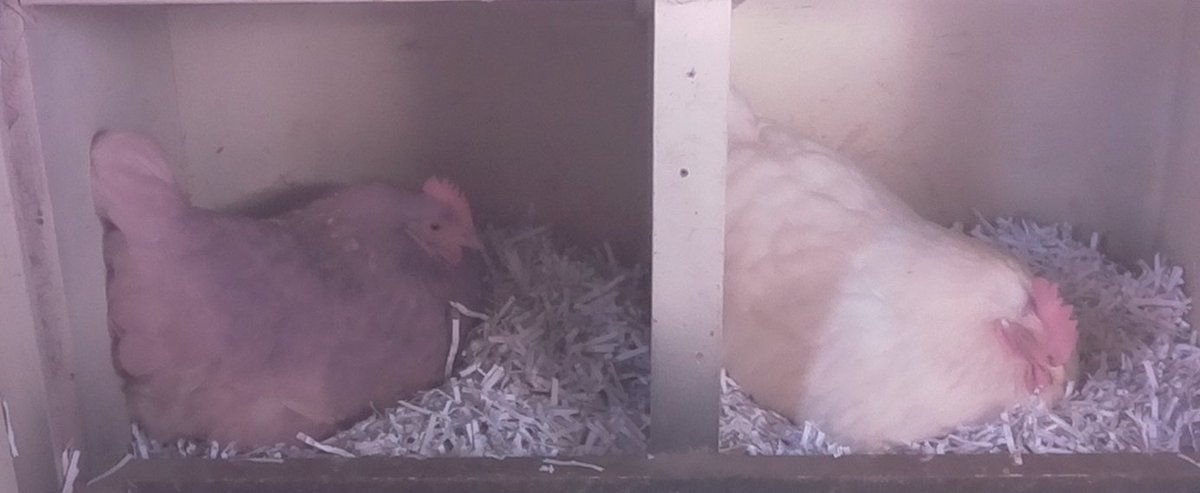hen: (86, 128, 490, 453), (729, 92, 1082, 446)
